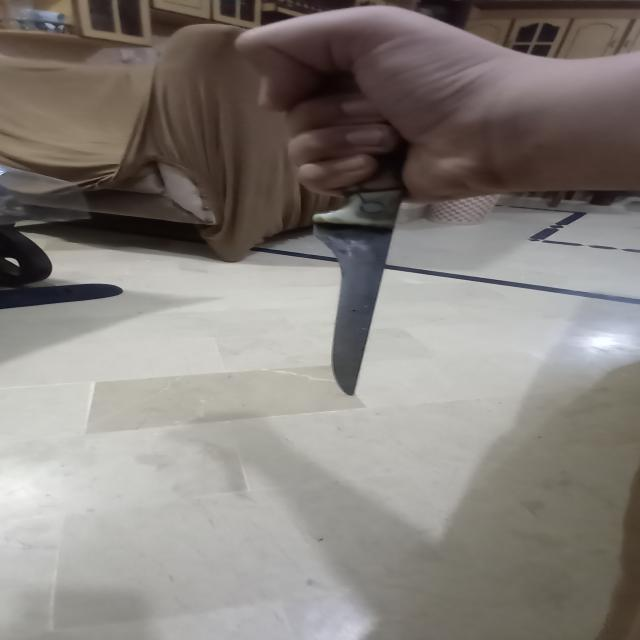Knife: (256, 27, 468, 406)
